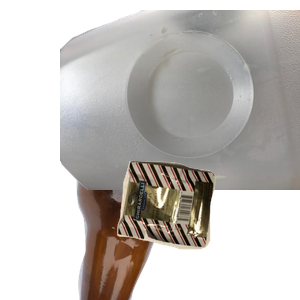glass: (60, 120, 300, 300)
metal: (71, 29, 276, 193)
plastic: (60, 10, 300, 190)
trash: (115, 158, 300, 300)
